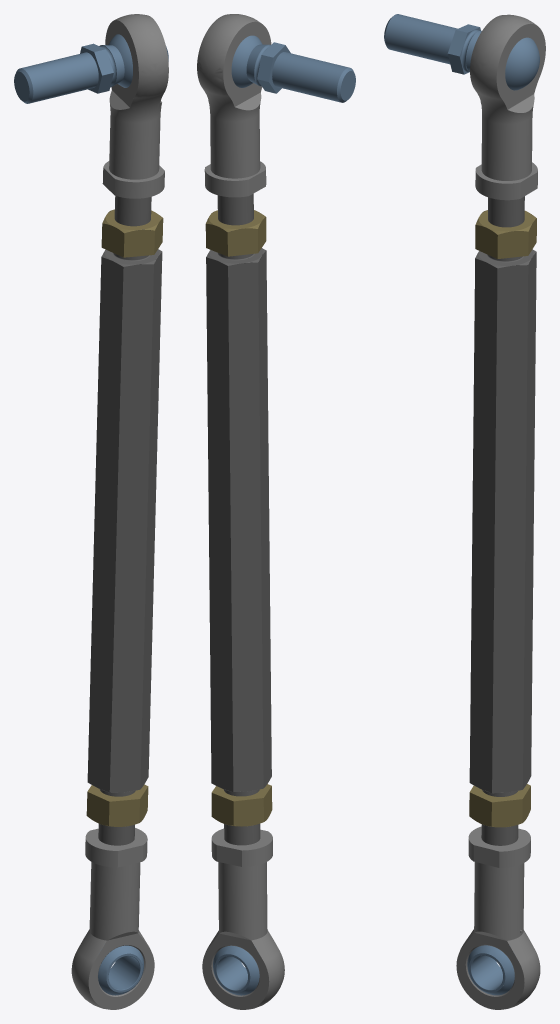
Rendered from l_roll_static_link.dae.
3 renders of one model, left to right at view 1: azimuth 30°, elevation 25°; view 2: azimuth 150°, elevation 25°; view 3: azimuth 330°, elevation 25°, orthographic.
Visible parts, largest first — view 1: LBRFNF20-480-80_r.001, 사본 LHS 20 Body1^LHS20.001, E-GYN20_h.001, 사본 LHS 20 Body2^LHS20.001, LBRBFF20_n.001, LBRBFF20_n.002, E-GYN20_b.001; view 2: LBRFNF20-480-80_r.001, 사본 LHS 20 Body1^LHS20.001, E-GYN20_h.001, 사본 LHS 20 Body2^LHS20.001, LBRBFF20_n.001, LBRBFF20_n.002, E-GYN20_b.001; view 3: LBRFNF20-480-80_r.001, 사본 LHS 20 Body1^LHS20.001, E-GYN20_h.001, 사본 LHS 20 Body2^LHS20.001, LBRBFF20_n.001, LBRBFF20_n.002, E-GYN20_b.001.
Boxes of the visible parts, box(x1,y1,x2,y2) form: LBRFNF20-480-80_r.001: box(87, 196, 162, 845); 사본 LHS 20 Body1^LHS20.001: box(102, 14, 168, 198); E-GYN20_h.001: box(71, 828, 154, 1009); 사본 LHS 20 Body2^LHS20.001: box(14, 34, 168, 103); LBRBFF20_n.001: box(101, 209, 163, 257); LBRBFF20_n.002: box(86, 784, 148, 826); E-GYN20_b.001: box(98, 945, 144, 995); LBRFNF20-480-80_r.001: box(206, 193, 271, 845); 사본 LHS 20 Body1^LHS20.001: box(197, 14, 271, 197); E-GYN20_h.001: box(202, 828, 284, 1009); 사본 LHS 20 Body2^LHS20.001: box(231, 35, 355, 102); LBRBFF20_n.001: box(205, 210, 266, 256); LBRBFF20_n.002: box(211, 784, 272, 826); E-GYN20_b.001: box(213, 945, 259, 995); LBRFNF20-480-80_r.001: box(469, 196, 536, 845); 사본 LHS 20 Body1^LHS20.001: box(470, 14, 545, 200); E-GYN20_h.001: box(456, 826, 540, 1009); 사본 LHS 20 Body2^LHS20.001: box(384, 14, 539, 90); LBRBFF20_n.001: box(475, 210, 536, 258); LBRBFF20_n.002: box(469, 784, 530, 827); E-GYN20_b.001: box(467, 945, 514, 995).
Bounding box in the file's own units: 0.0904 × 0.0489 × 0.5989.
1 material, 1 textured.
